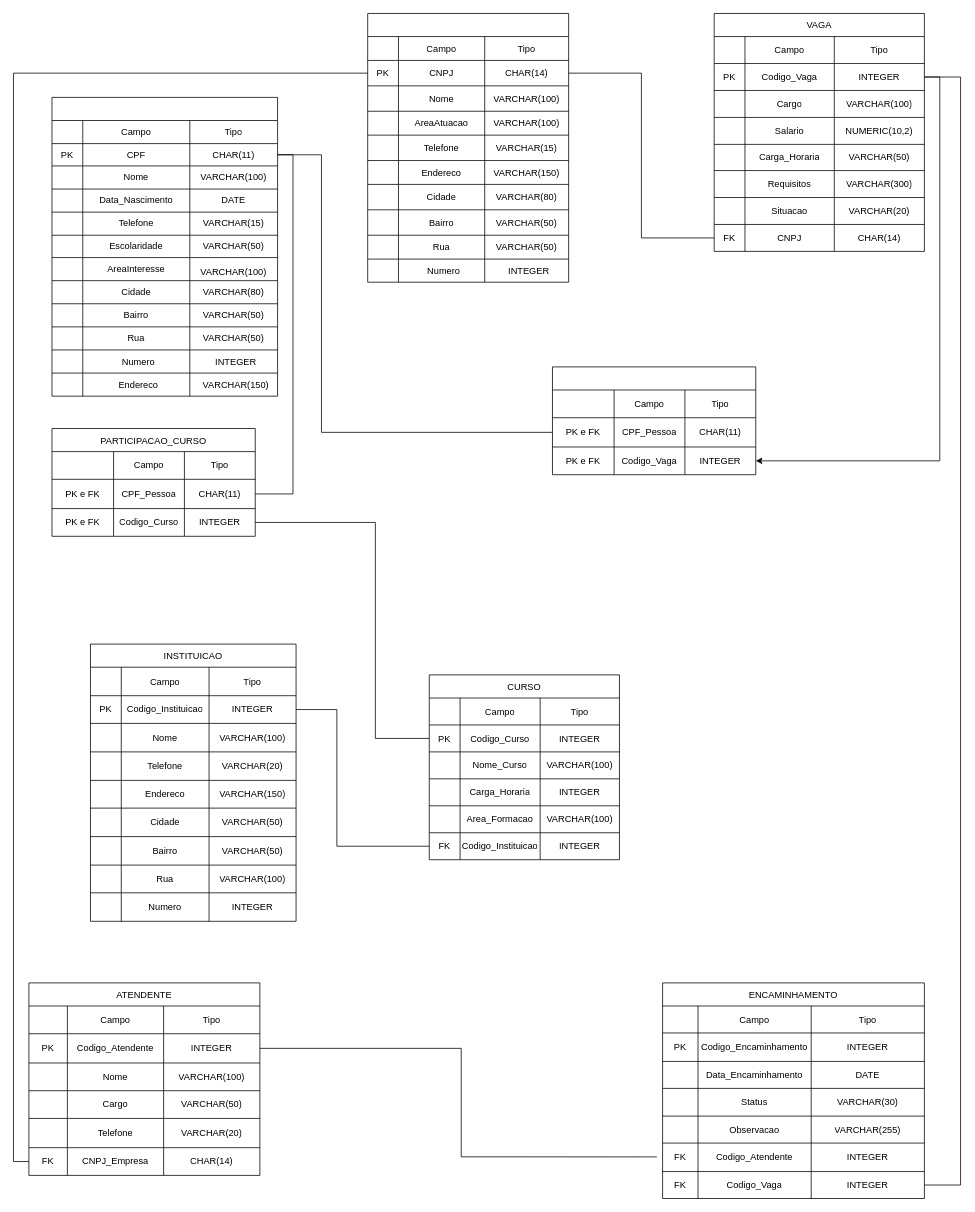
The diagram is 975 pixels wide and 1212 high, and some of its shapes have lost their labels. The shapes that lost their labels are listed below. From the top down, each one's box as (x1, y1, x2, y2) in pixels, then its label:
(367, 13, 569, 282): EMPRESA
(51, 97, 278, 396): PESSOA_DESEMPREGADA
(552, 366, 756, 475): CANDIDATURA
